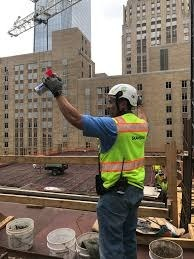helmet: (104, 82, 140, 107)
person with full safety: (88, 83, 150, 257)
safety vest: (98, 116, 146, 188)
